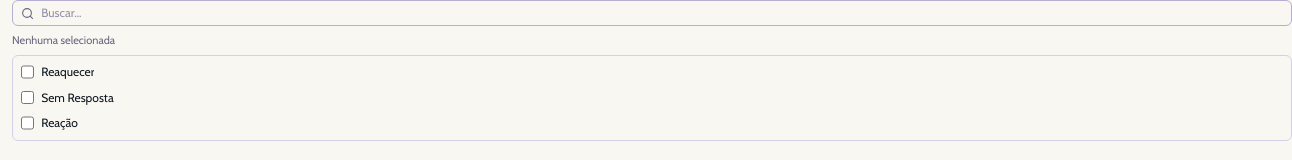
MultiSelectList › a busca ignora caixa e acento
The width and height of the screenshot is (1292, 160).
Step 1. Type "REACAO" into the field with test id "m-busca" → point(662, 13), box [41,4,1284,22]
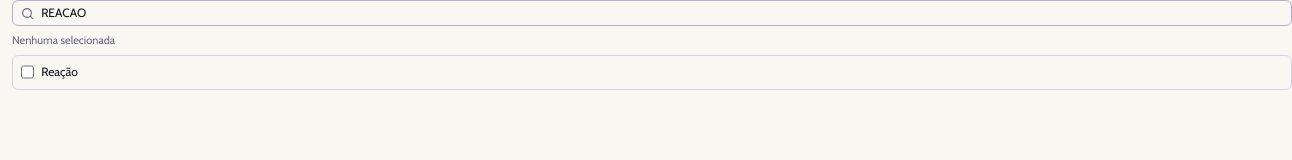
Result: the checkbox with test id "m-t2" is gone
